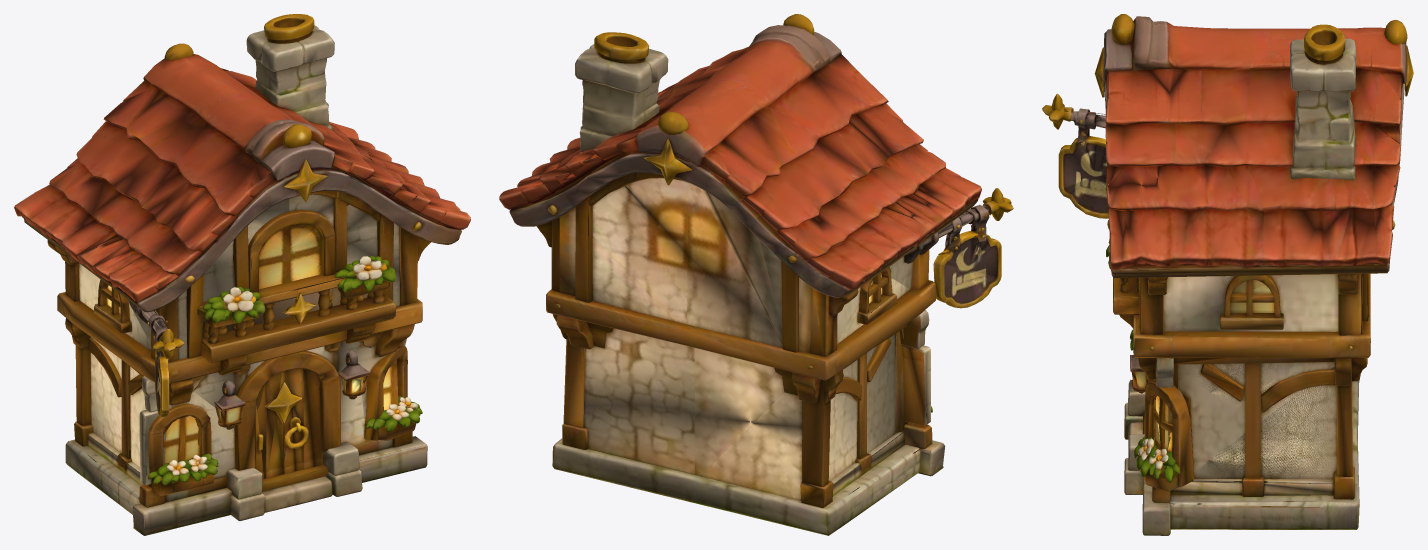
The model's file is town-inn.web.glb.
The picture shows the model from 3 angles, left to right: view 1: azimuth 30°, elevation 25°; view 2: azimuth 150°, elevation 25°; view 3: azimuth 270°, elevation 25°; orthographic projection. The views are drawn at different scales.
Visible parts, largest first — view 1: town-inn; view 2: town-inn; view 3: town-inn.
Part boxes in pixels (bbox=[...]): town-inn: bbox=[14, 14, 470, 535]; town-inn: bbox=[499, 14, 1013, 535]; town-inn: bbox=[1042, 14, 1413, 535].
Size of the model in its own units: 6.4 by 7.2 by 5.2.
1 material, 1 textured.
